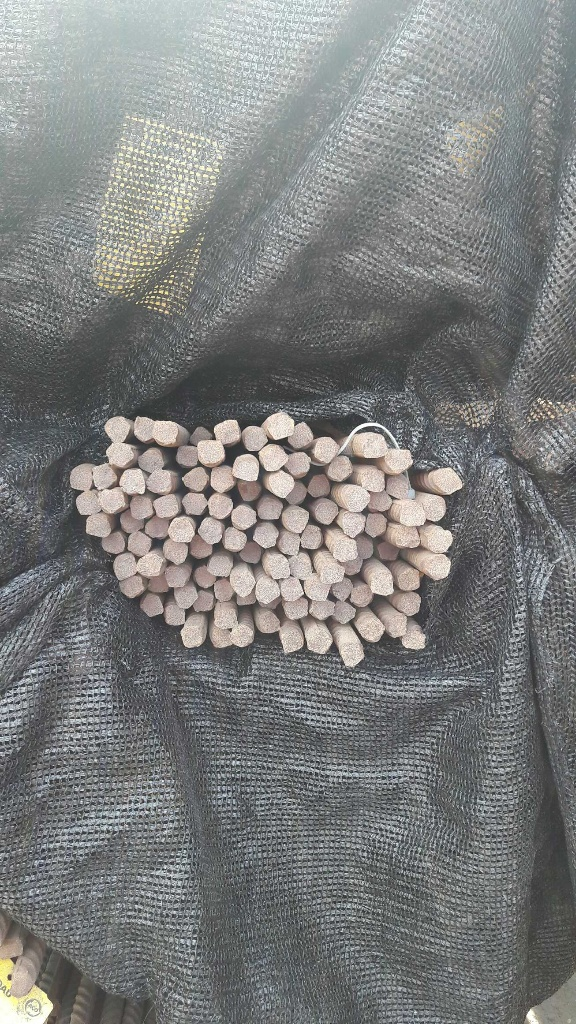dipstick: (232, 454, 260, 481), (385, 447, 413, 473), (433, 467, 462, 492), (394, 525, 421, 551), (197, 440, 224, 466), (120, 468, 146, 495), (399, 502, 426, 527), (260, 444, 285, 471), (386, 474, 415, 497), (304, 574, 330, 599), (268, 413, 293, 439), (112, 553, 137, 579), (180, 467, 207, 491), (106, 442, 133, 466), (74, 491, 101, 515), (167, 518, 194, 542), (242, 426, 267, 451), (403, 626, 427, 652), (213, 419, 239, 443), (181, 492, 207, 516), (428, 526, 451, 553), (315, 499, 338, 526), (269, 471, 292, 498), (287, 453, 311, 478), (153, 421, 178, 445), (231, 506, 257, 529), (211, 466, 234, 492), (99, 489, 125, 512), (425, 555, 452, 577), (399, 592, 423, 616), (232, 571, 256, 595), (162, 538, 186, 562), (266, 554, 289, 579), (347, 487, 370, 511), (285, 508, 308, 532), (180, 625, 203, 649), (289, 425, 312, 449), (223, 528, 246, 552), (198, 519, 222, 542), (208, 495, 232, 518), (104, 418, 127, 442), (92, 465, 115, 489), (127, 532, 150, 556), (257, 577, 279, 602), (117, 511, 143, 532), (425, 495, 445, 522), (342, 643, 365, 666), (208, 556, 231, 579), (254, 526, 277, 549), (362, 434, 386, 456), (310, 630, 332, 654), (280, 628, 302, 652), (289, 554, 311, 578), (301, 525, 323, 549), (175, 445, 199, 467), (70, 466, 92, 490), (129, 495, 153, 517), (154, 495, 178, 517), (139, 594, 163, 616), (137, 554, 161, 576), (373, 572, 394, 597), (85, 516, 110, 537), (366, 511, 386, 537), (99, 534, 126, 553), (398, 568, 420, 591), (310, 599, 333, 621), (329, 458, 352, 480), (315, 438, 338, 460), (278, 533, 301, 555), (210, 627, 233, 649), (239, 542, 262, 564), (238, 479, 261, 501), (147, 471, 170, 493), (144, 517, 167, 539), (362, 467, 383, 491), (189, 536, 210, 560), (138, 450, 162, 471), (120, 577, 144, 598), (343, 511, 363, 536), (133, 417, 153, 442), (362, 620, 384, 642), (351, 584, 372, 607), (333, 603, 356, 624), (164, 563, 185, 586), (388, 614, 407, 639), (259, 501, 281, 522), (284, 599, 308, 618), (231, 626, 252, 647), (212, 580, 233, 601), (164, 605, 185, 626), (377, 541, 399, 561), (337, 539, 357, 561), (281, 579, 304, 598), (215, 611, 238, 630), (370, 491, 391, 511), (310, 475, 331, 495), (257, 612, 278, 632), (194, 567, 215, 587), (193, 591, 212, 613), (288, 482, 306, 505), (357, 536, 373, 561), (331, 579, 351, 599), (341, 557, 362, 576), (322, 564, 343, 583), (190, 426, 211, 445), (177, 587, 196, 608), (149, 575, 168, 595), (236, 591, 256, 606), (257, 597, 280, 610)
